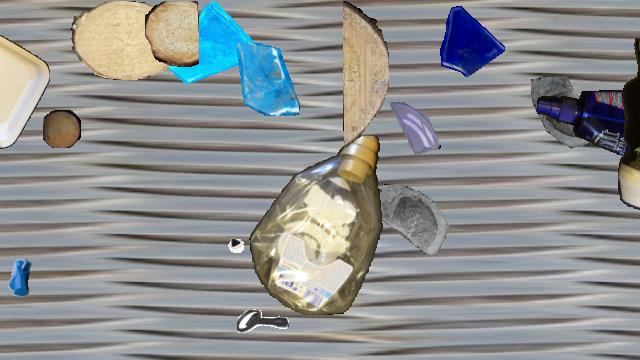glass: (168, 1, 258, 91), (529, 76, 615, 162), (377, 182, 461, 266), (431, 1, 507, 77), (230, 43, 302, 115), (385, 101, 443, 159)
metal: (191, 199, 249, 257), (0, 246, 48, 304), (237, 297, 289, 349)
plastic: (249, 136, 385, 314), (537, 90, 640, 172), (0, 10, 50, 152), (618, 38, 640, 212)
wood: (71, 1, 177, 79), (343, 1, 389, 147), (145, 1, 199, 67), (43, 110, 81, 148)
